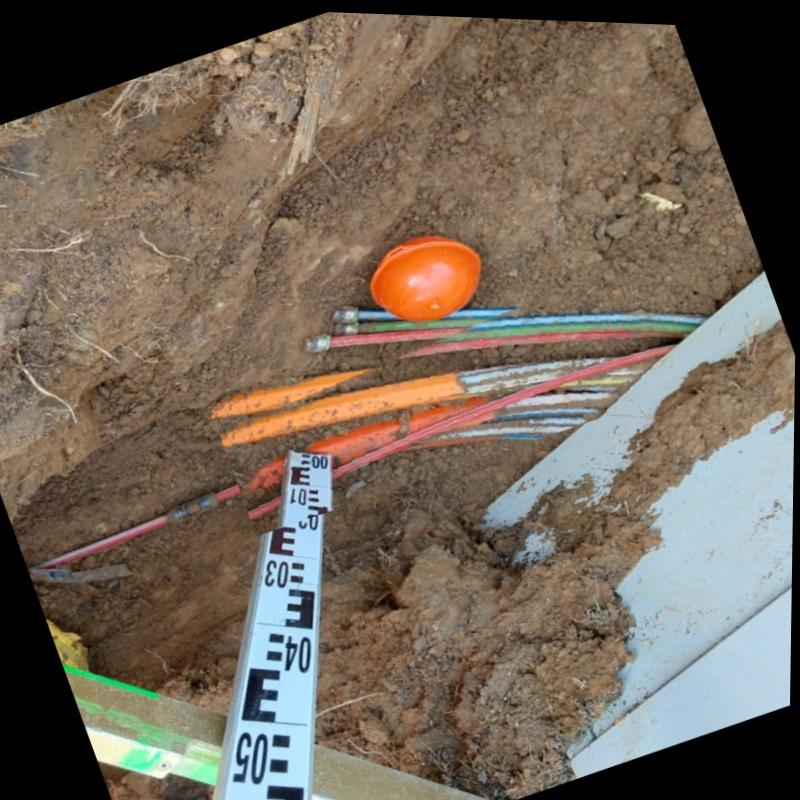Kugelmarker: (370, 229, 483, 317)
Orang-Speednetrohrchen: (223, 349, 659, 489)
